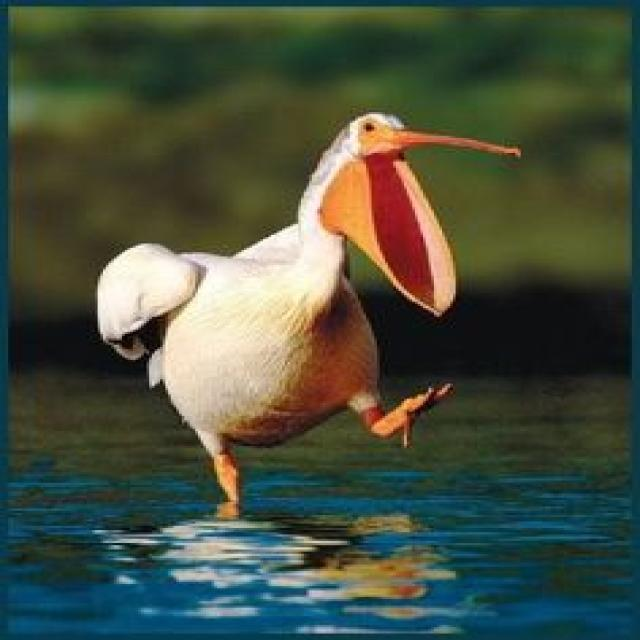Carnivorous: (95, 112, 523, 517)
